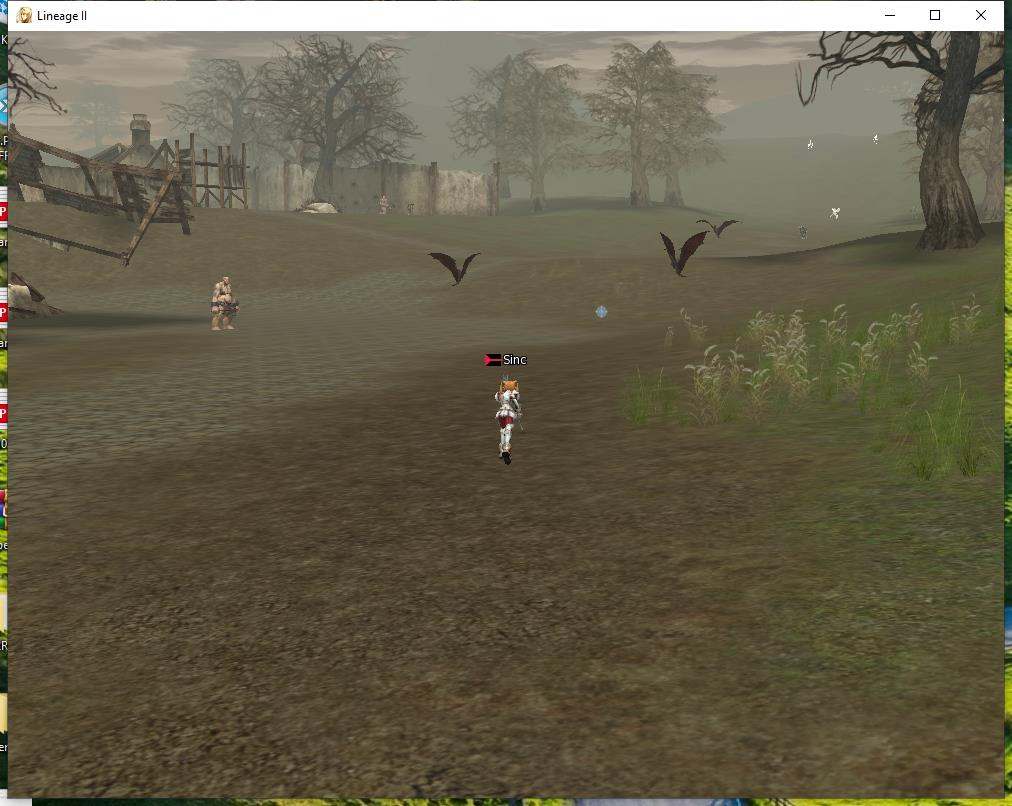monster: (649, 237, 709, 281), (211, 268, 246, 341), (435, 241, 484, 293), (691, 208, 743, 238), (379, 191, 394, 217), (798, 220, 812, 240), (831, 201, 844, 222)
